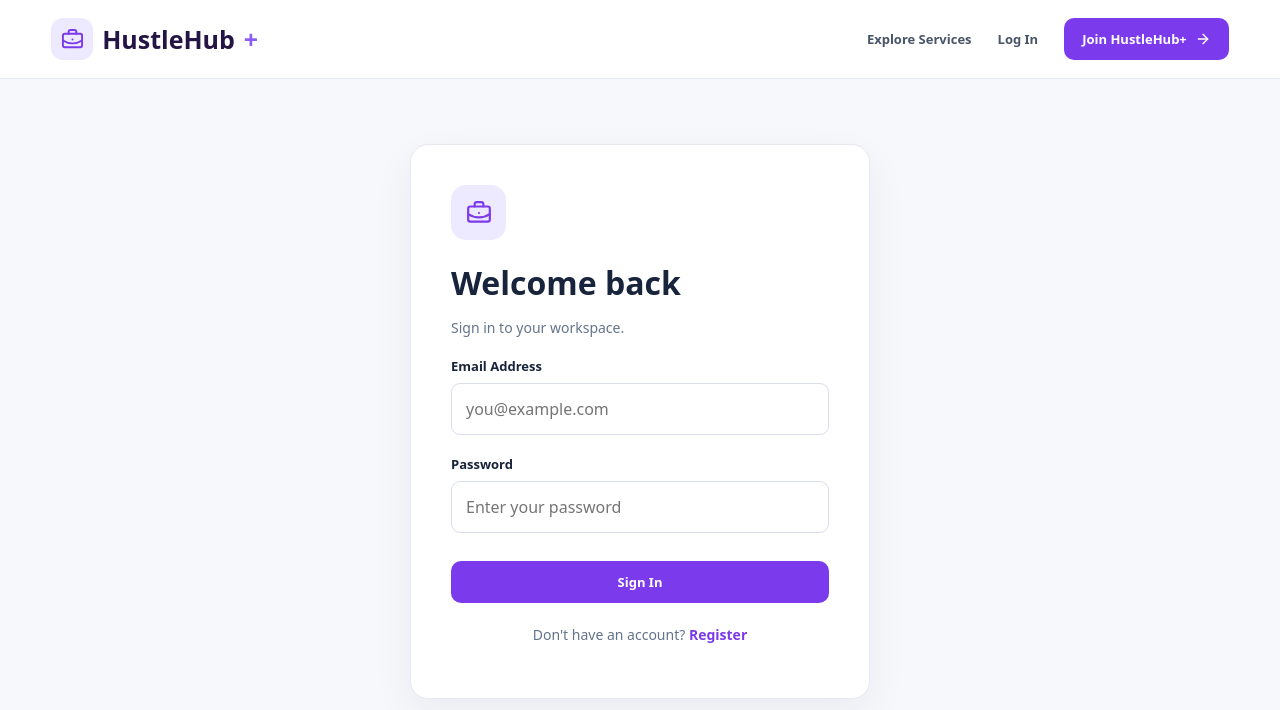
Test: HustleHub+ frontend › logs in successfully and opens the client dashboard
This screenshot has width=1280, height=710.
Type "client@example.com" into the field with placeholder "you@example.com" at (640, 409), box [451, 383, 829, 435]
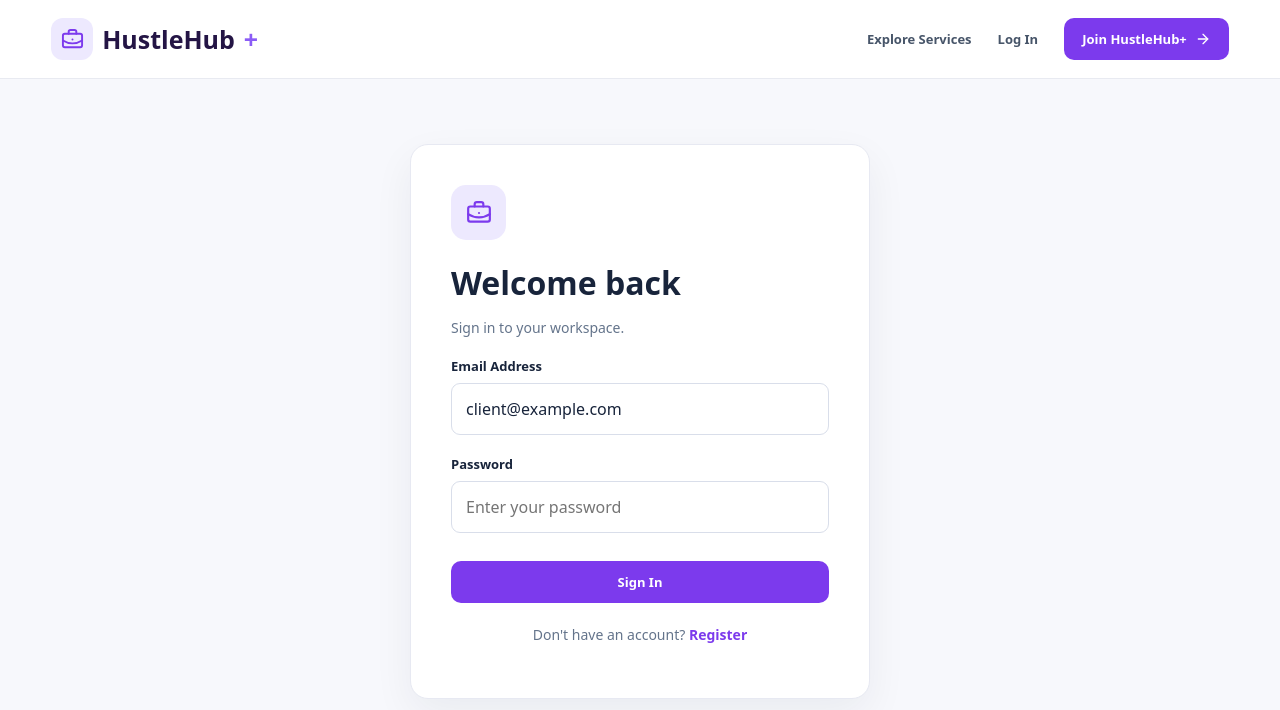
Type "Password123" into the password field with placeholder "Enter your password" at (640, 507), box [451, 481, 829, 533]
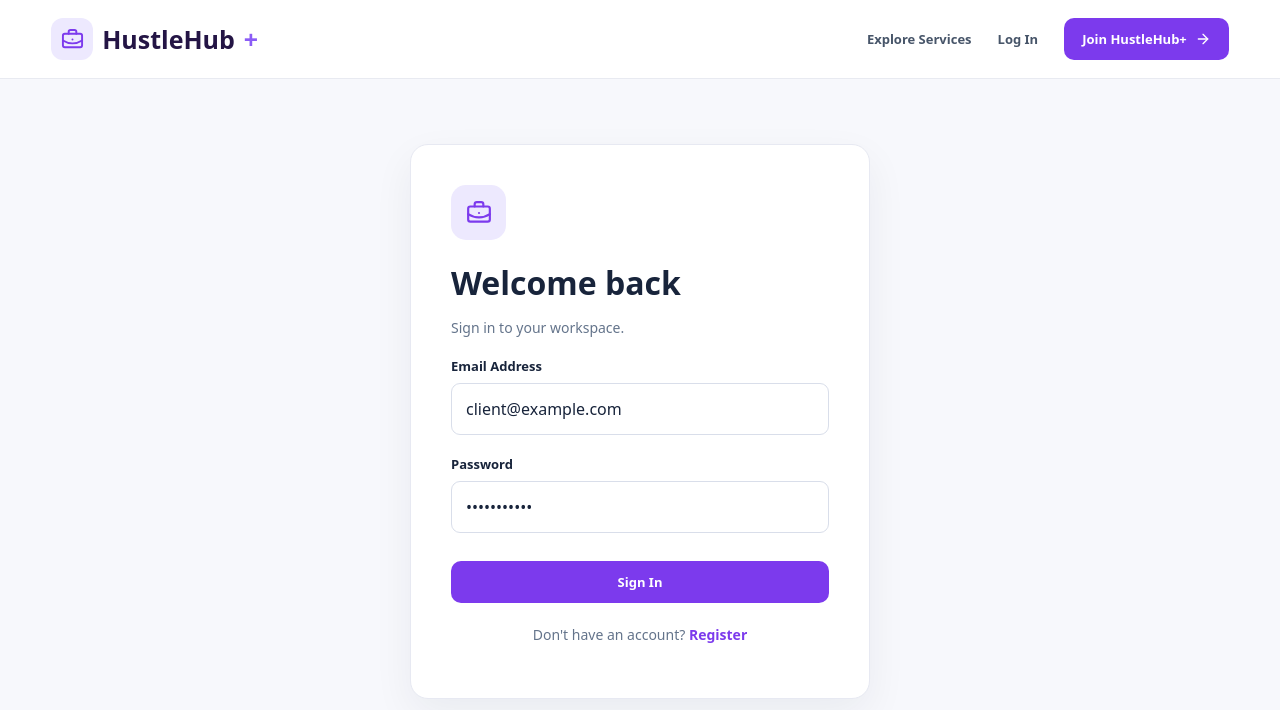
Click the button "Sign In" at (640, 582), box [451, 561, 829, 603]
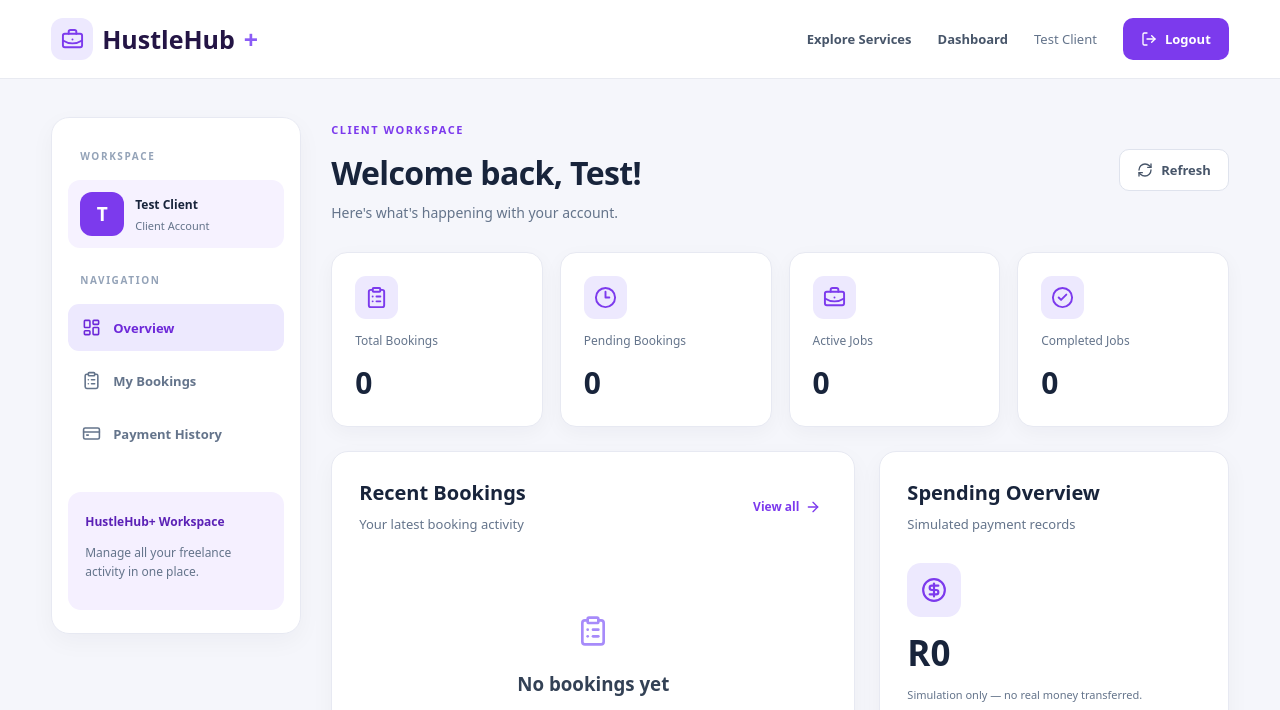
Check: the heading "Welcome back, Test!" is shown, box [331, 151, 641, 194]
